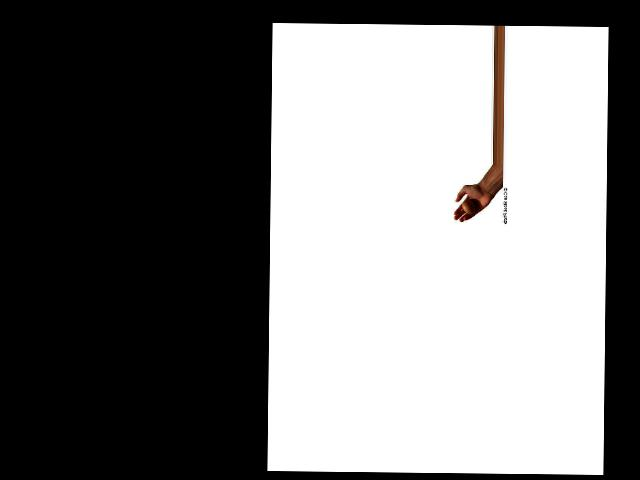egg: (462, 200, 476, 214)
